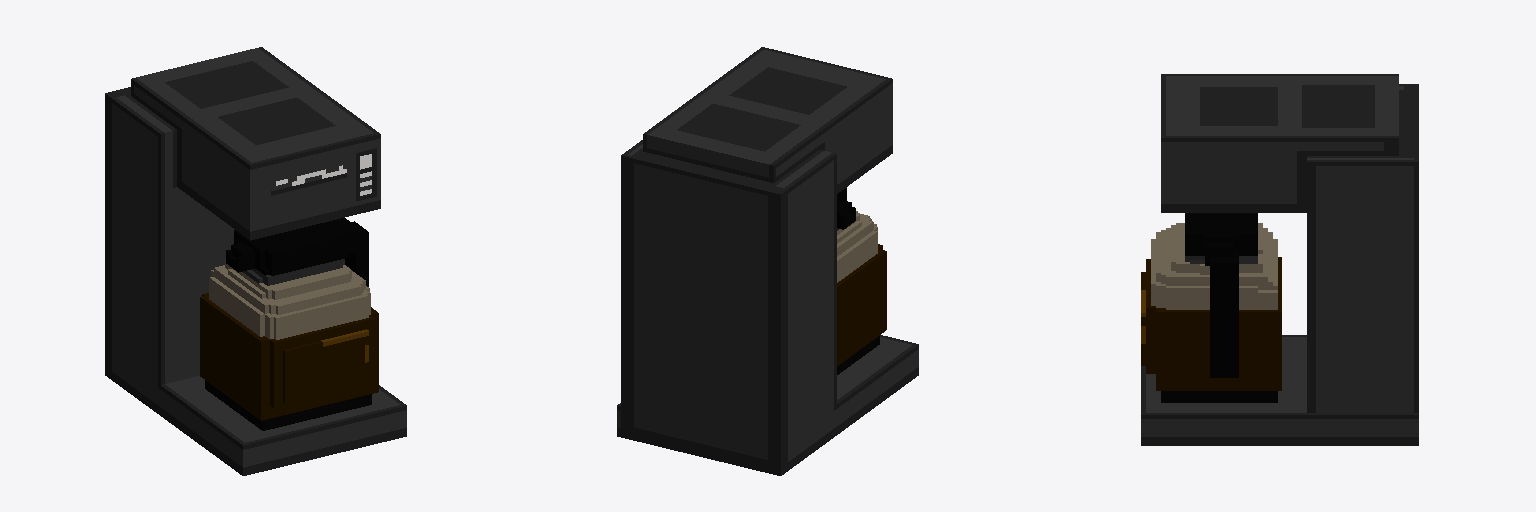
3 renders of one model, left to right at view 1: azimuth 30°, elevation 25°; view 2: azimuth 150°, elevation 25°; view 3: azimuth 270°, elevation 25°, orthographic.
Parts seen in each view (by area): view 1: object 1; view 2: object 1; view 3: object 1.
Part boxes in pixels (bbox=[...]): object 1: bbox=[105, 47, 406, 475]; object 1: bbox=[617, 47, 918, 475]; object 1: bbox=[1141, 74, 1418, 445].
Bounding box in the file's own units: 3.9 × 6.8 × 5.7.
Materials: 1 (1 with a texture image).